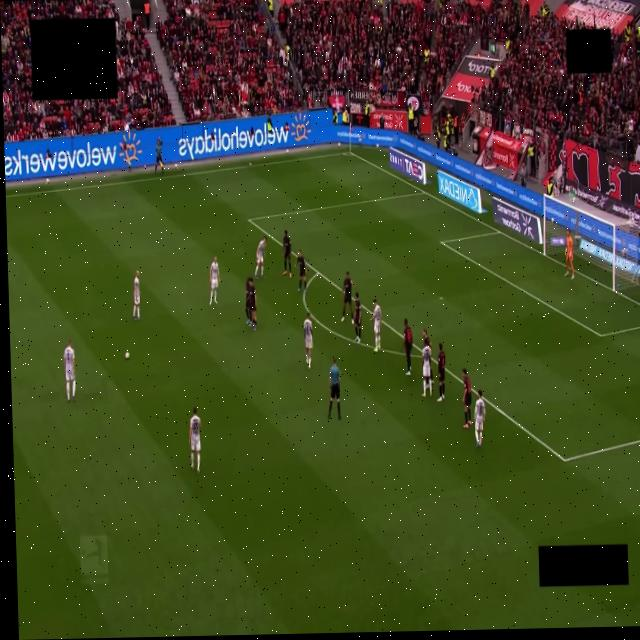ball: (125, 352, 129, 359)
player: (473, 389, 486, 448), (461, 368, 473, 429), (63, 341, 75, 402), (189, 407, 200, 473), (436, 343, 447, 402), (341, 272, 353, 323), (402, 319, 412, 375), (422, 338, 431, 398), (248, 278, 258, 330), (303, 313, 312, 368), (564, 230, 574, 279), (372, 299, 381, 352), (254, 236, 265, 278), (209, 256, 218, 306), (282, 231, 291, 278), (296, 250, 306, 291), (353, 292, 361, 343), (132, 271, 139, 319), (245, 277, 251, 326), (422, 329, 431, 349)
referee: (327, 358, 340, 419)
